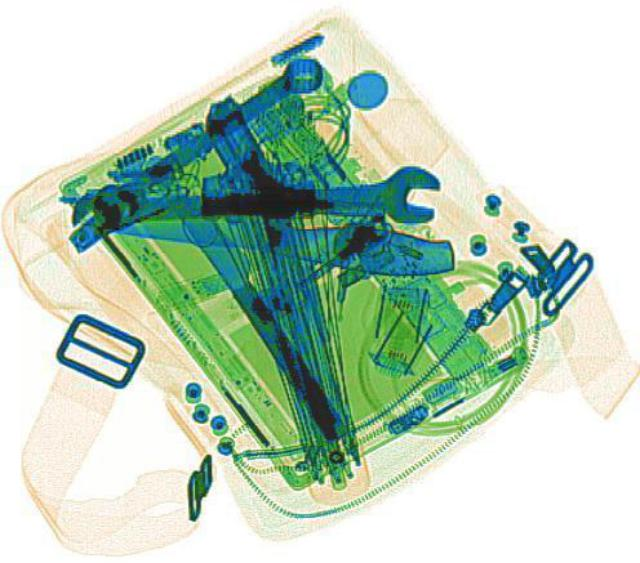Gun: (195, 93, 317, 215)
Knife: (150, 166, 350, 439), (104, 199, 456, 281)
Wrench: (58, 46, 332, 241), (95, 165, 439, 225)
